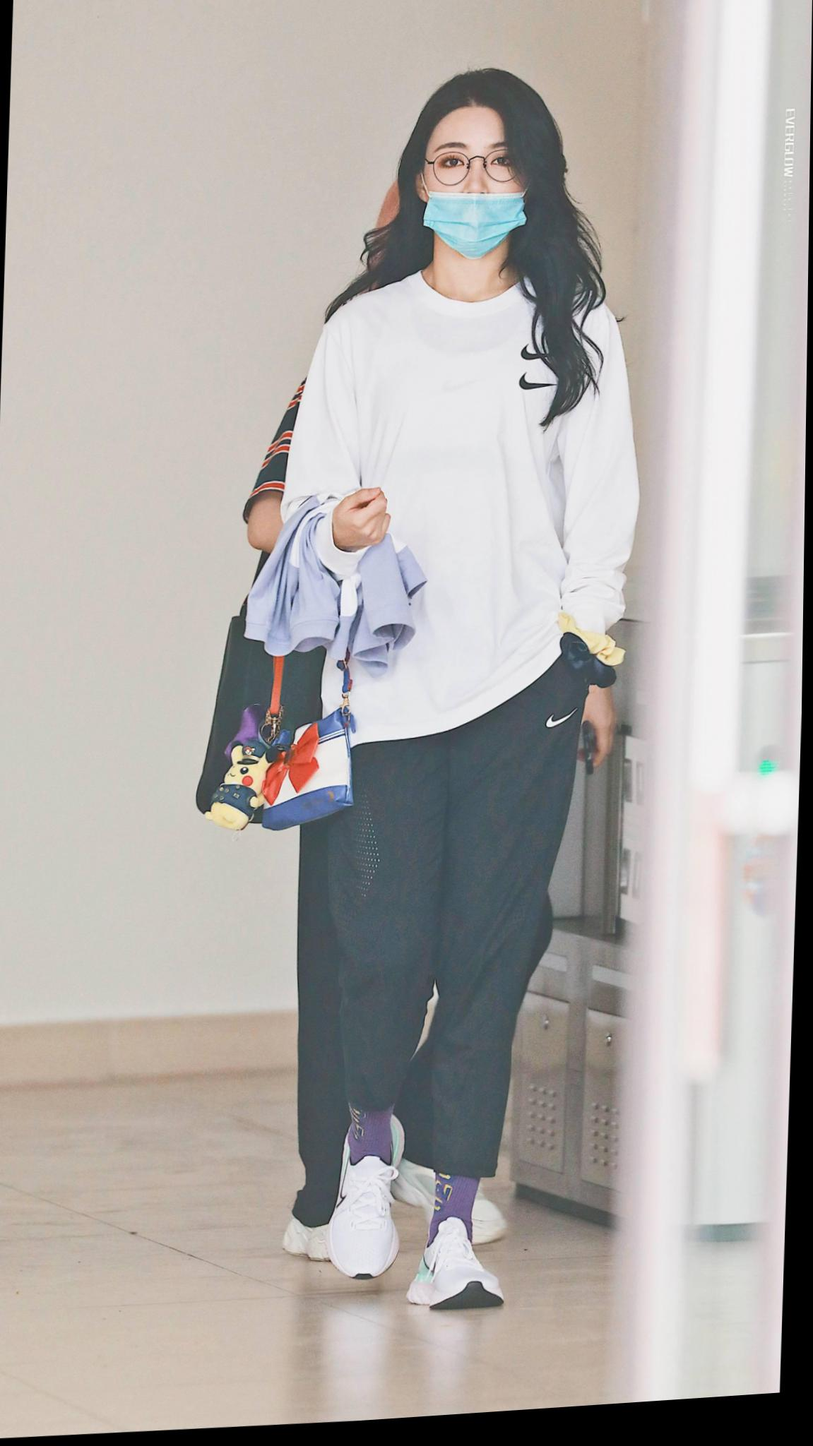WRONG: (419, 128, 526, 270)
